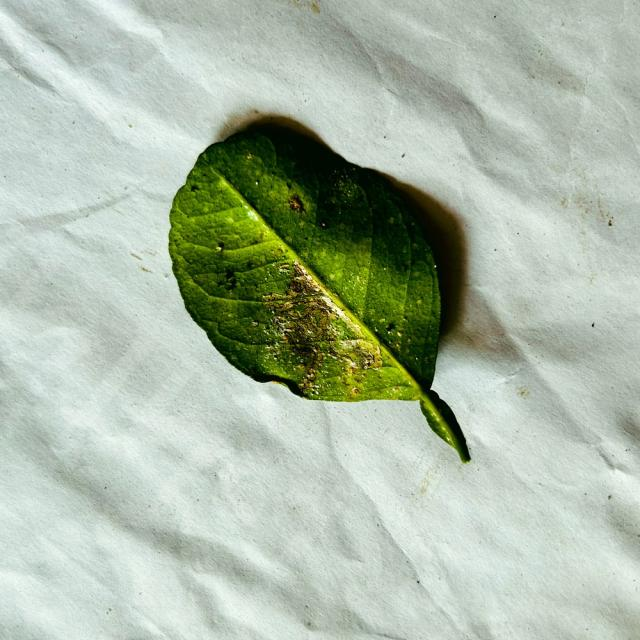Bacterial_Blight: (271, 298, 330, 333), (282, 326, 323, 374), (336, 339, 383, 377), (288, 269, 318, 295), (261, 292, 288, 304), (223, 269, 238, 287), (289, 196, 303, 212), (293, 304, 309, 313), (374, 344, 382, 359), (385, 323, 396, 333), (402, 260, 410, 273), (351, 387, 361, 395), (280, 335, 290, 342), (279, 263, 290, 269), (272, 316, 281, 323), (410, 258, 416, 267)
Lemon: (168, 116, 470, 464)
